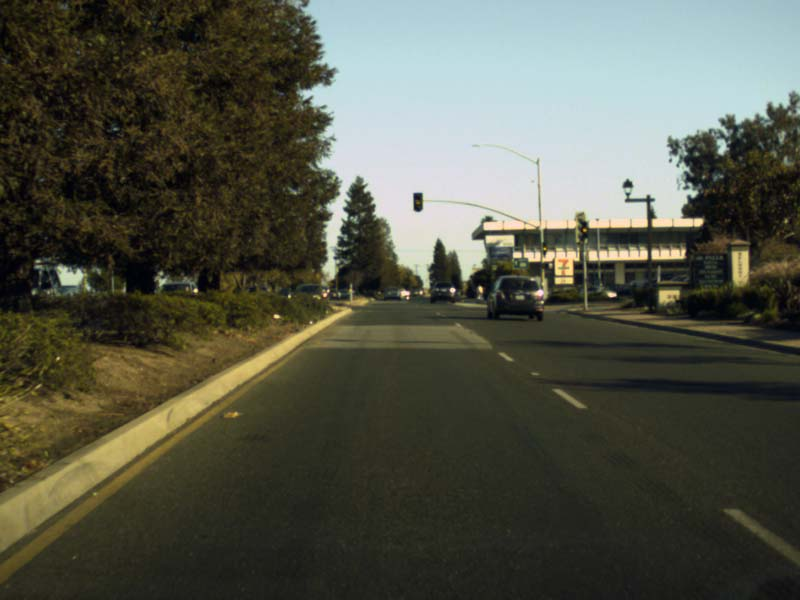Yellow: (412, 192, 422, 211), (581, 221, 589, 237), (542, 242, 547, 254)
